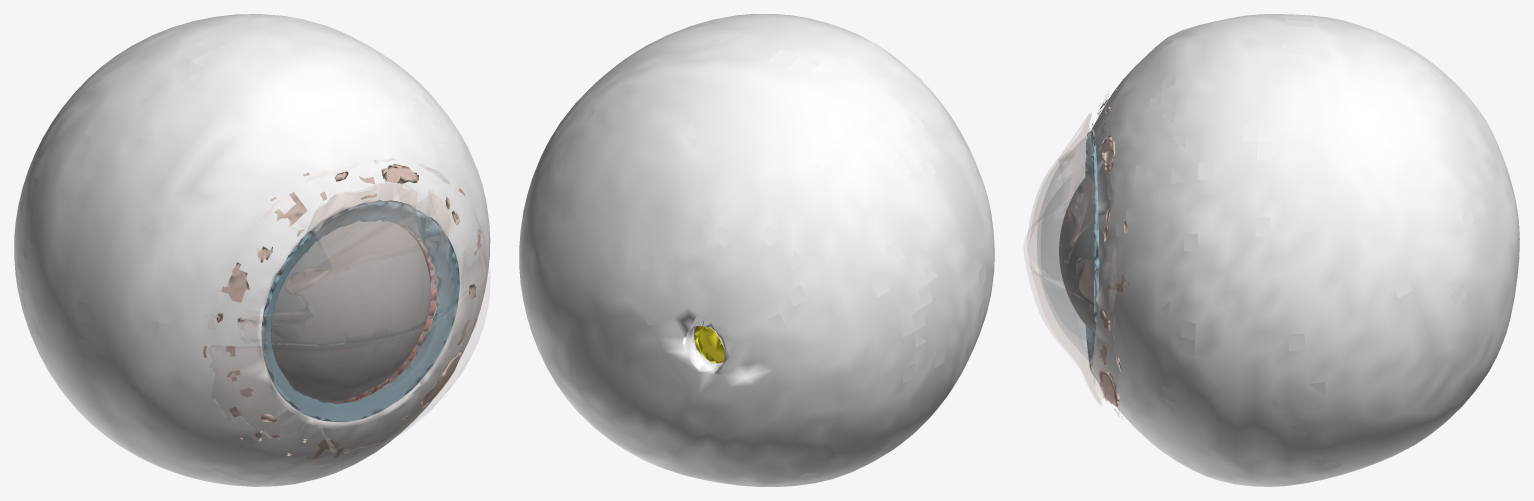
File: 3d-vh-f-eye-l-80.glb
The picture shows the model from 3 angles, left to right: view 1: azimuth 30°, elevation 25°; view 2: azimuth 150°, elevation 25°; view 3: azimuth 270°, elevation 25°; orthographic projection.
Visible parts, largest first — view 1: VH_F_sclera_L, VH_F_cornea_L, VH_F_palpebral_conjunctiva_of_left_upper_eyelid, VH_F_palpebral_conjunctiva_of_left_lower_eyelid, VH_F_aqueous_humor_L, VH_F_corneo_scleral_junction_L, VH_F_bulbar_conjunctiva_L, VH_F_ciliary_muscle_L; view 2: VH_F_sclera_L, VH_F_optic_disc_L; view 3: VH_F_sclera_L, VH_F_cornea_L, VH_F_palpebral_conjunctiva_of_left_upper_eyelid, VH_F_palpebral_conjunctiva_of_left_lower_eyelid, VH_F_aqueous_humor_L, VH_F_bulbar_conjunctiva_L, VH_F_corneo_scleral_junction_L.
Boxes of the visible parts, left/top/right/bottom form: VH_F_sclera_L: left=14, top=14, right=490, bottom=486; VH_F_cornea_L: left=262, top=202, right=459, bottom=421; VH_F_palpebral_conjunctiva_of_left_upper_eyelid: left=208, top=158, right=486, bottom=345; VH_F_palpebral_conjunctiva_of_left_lower_eyelid: left=207, top=268, right=489, bottom=462; VH_F_aqueous_humor_L: left=271, top=220, right=431, bottom=402; VH_F_corneo_scleral_junction_L: left=261, top=200, right=459, bottom=421; VH_F_bulbar_conjunctiva_L: left=203, top=164, right=481, bottom=459; VH_F_ciliary_muscle_L: left=332, top=227, right=437, bottom=402; VH_F_sclera_L: left=519, top=14, right=994, bottom=486; VH_F_optic_disc_L: left=698, top=326, right=724, bottom=363; VH_F_sclera_L: left=1089, top=14, right=1519, bottom=486; VH_F_cornea_L: left=1037, top=134, right=1097, bottom=363; VH_F_palpebral_conjunctiva_of_left_upper_eyelid: left=1027, top=91, right=1117, bottom=311; VH_F_palpebral_conjunctiva_of_left_lower_eyelid: left=1023, top=227, right=1119, bottom=416; VH_F_aqueous_humor_L: left=1059, top=169, right=1095, bottom=332; VH_F_bulbar_conjunctiva_L: left=1091, top=88, right=1128, bottom=419; VH_F_corneo_scleral_junction_L: left=1085, top=130, right=1099, bottom=363.
Size of the model in its own units: 0.0245 by 0.0244 by 0.0257.
